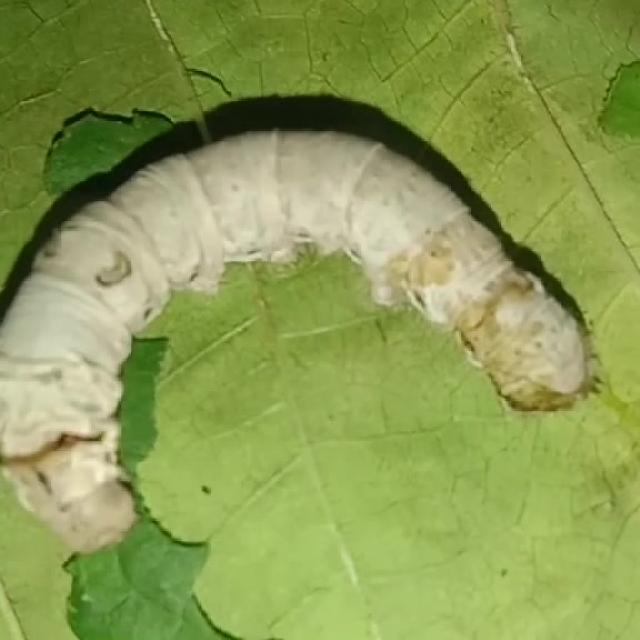Grasserie: (0, 62, 610, 575)
